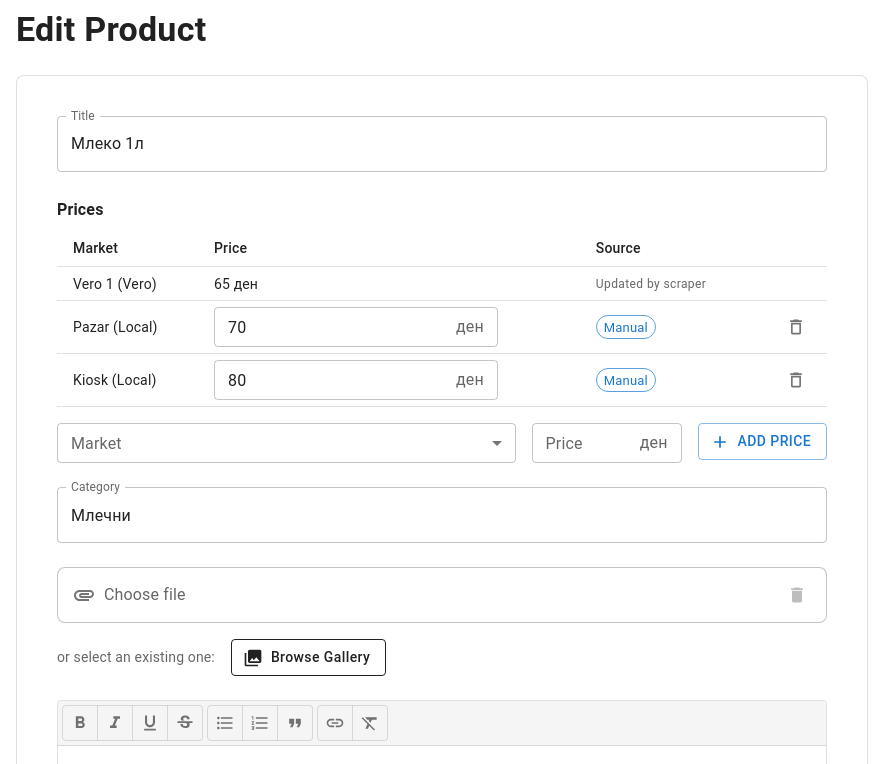
AddOrEditProductForm price editing › adding a price at a new market › only offers markets the product isn't sold at
Press the mouse on the dropdown named "Market" at (286, 444), box [57,424,516,464]
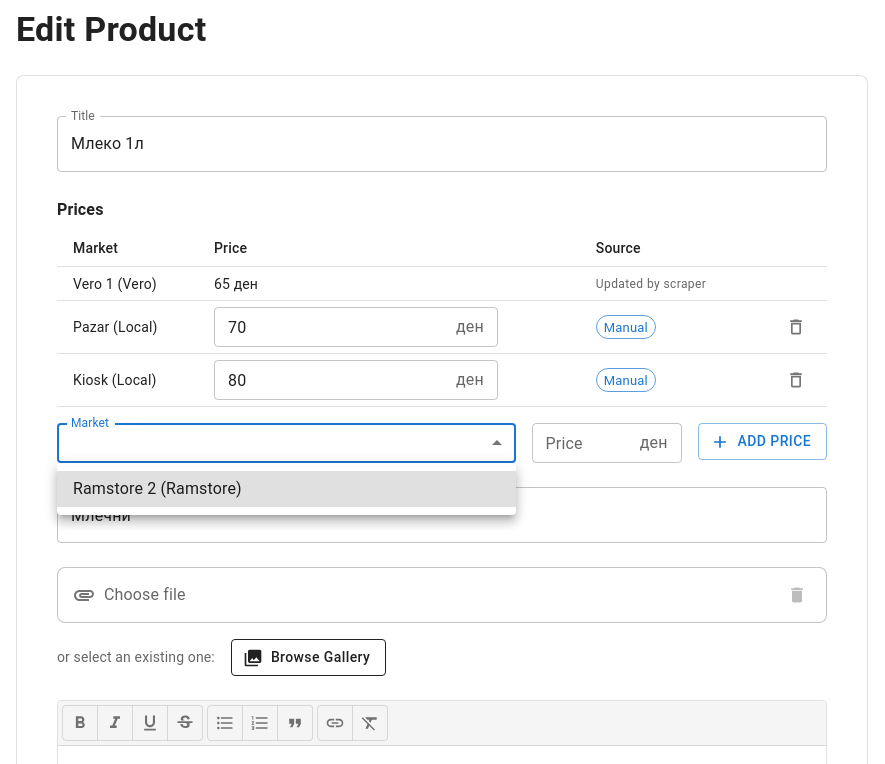
Expected: the options read "Ramstore 2 (Ramstore)", in this order, [57,471,516,507]
